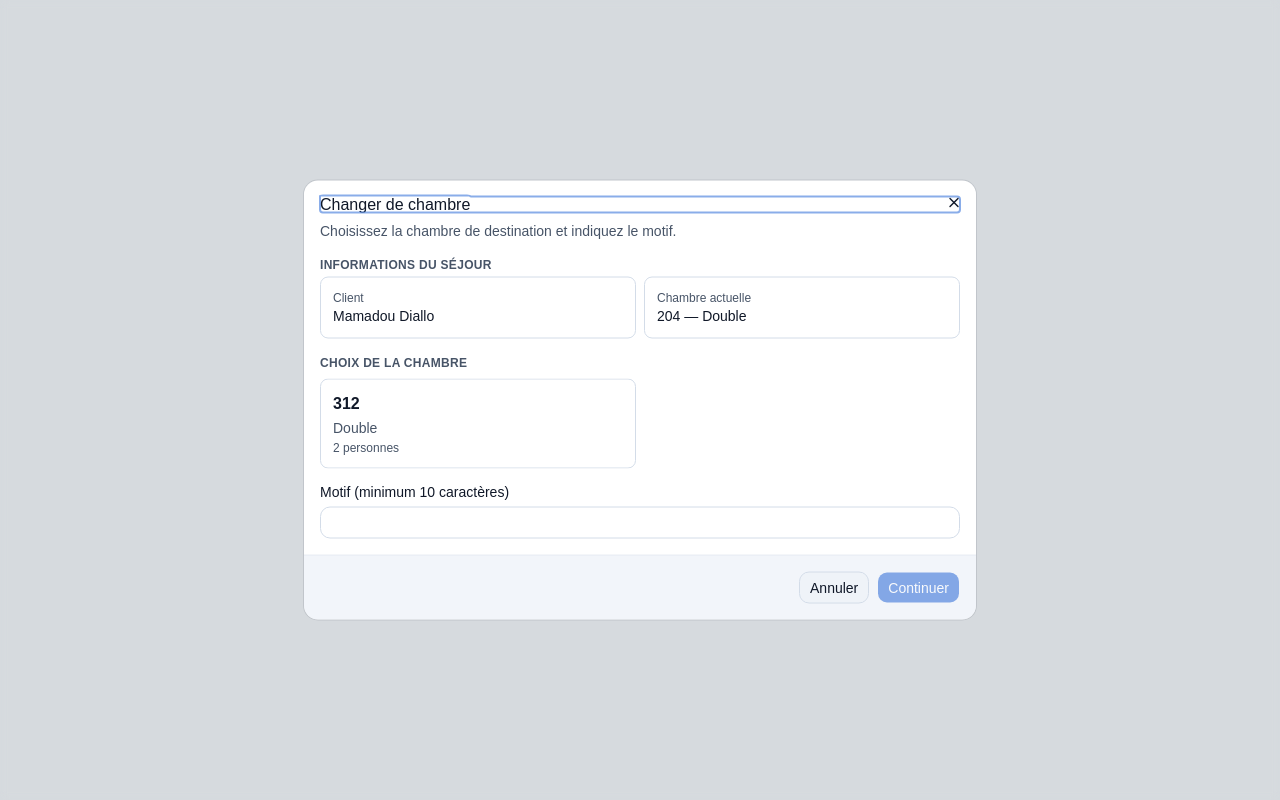
Test: ChangeRoomDialog — étape de confirmation avant appel API (DESIGN-009B : aperçu tarifaire) › affiche le message backend tel quel en cas d’erreur de commit non structurée (aucun code exploitable)
This screenshot has width=1280, height=800.
Click the button "312 Double 2 personnes". click: (355, 428)
box: [320, 378, 636, 468]
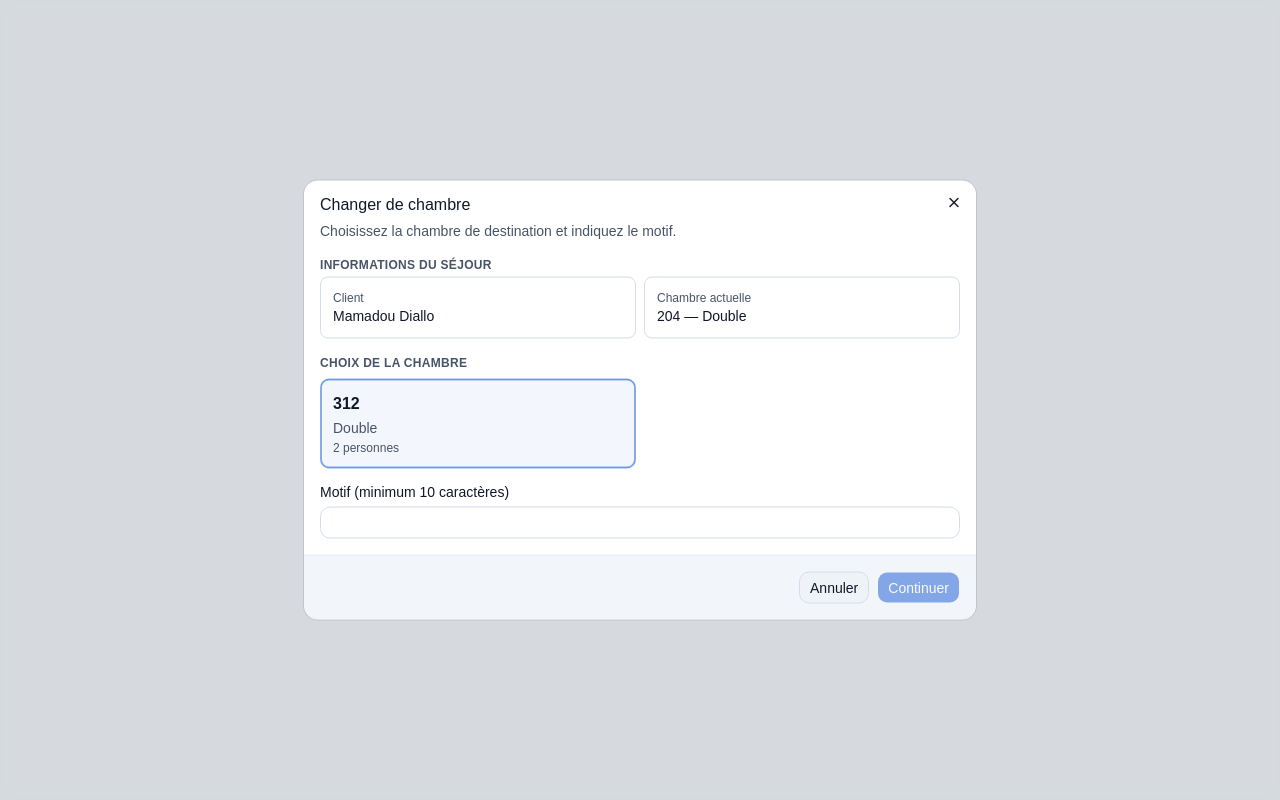
Type "Demande du client" into the field labelled "Motif (minimum 10 caractères)". click: (640, 522)
box: [320, 506, 960, 538]
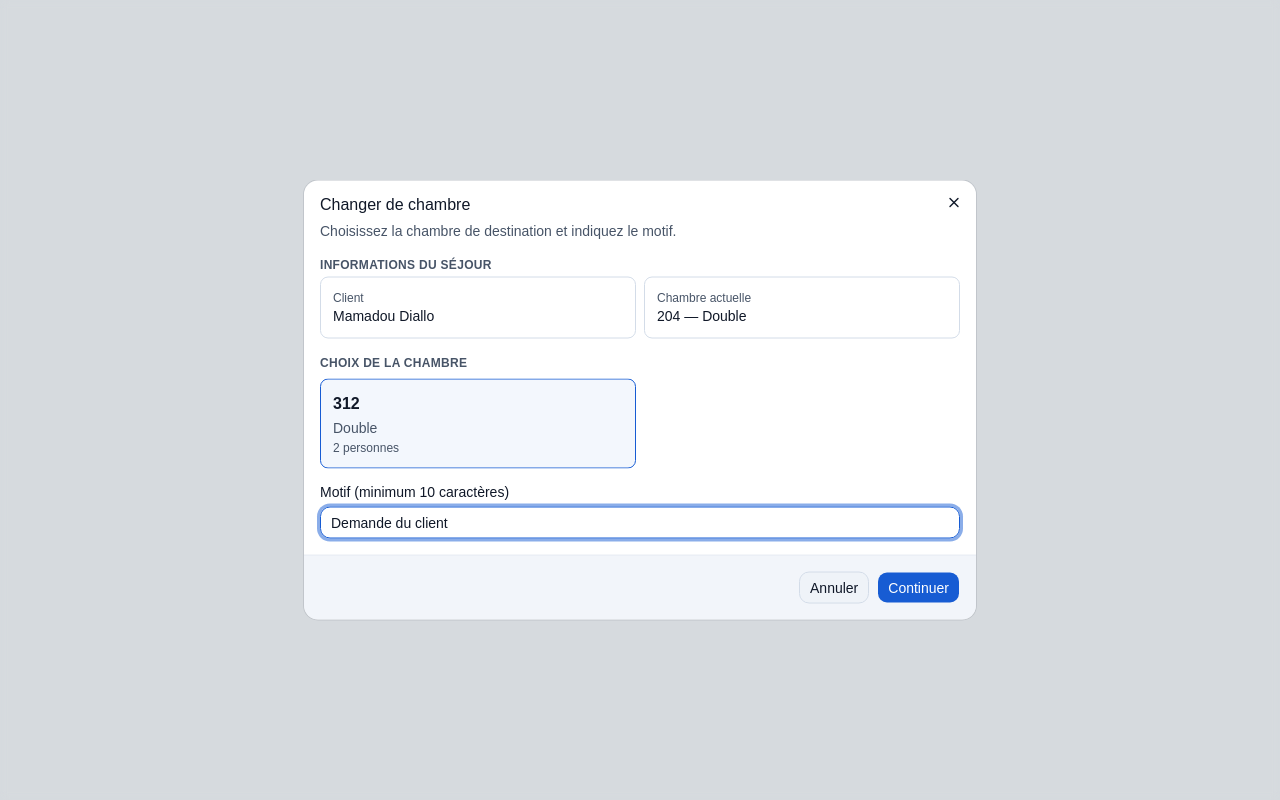
Click the button "Continuer". click: (919, 588)
box: [877, 572, 960, 604]
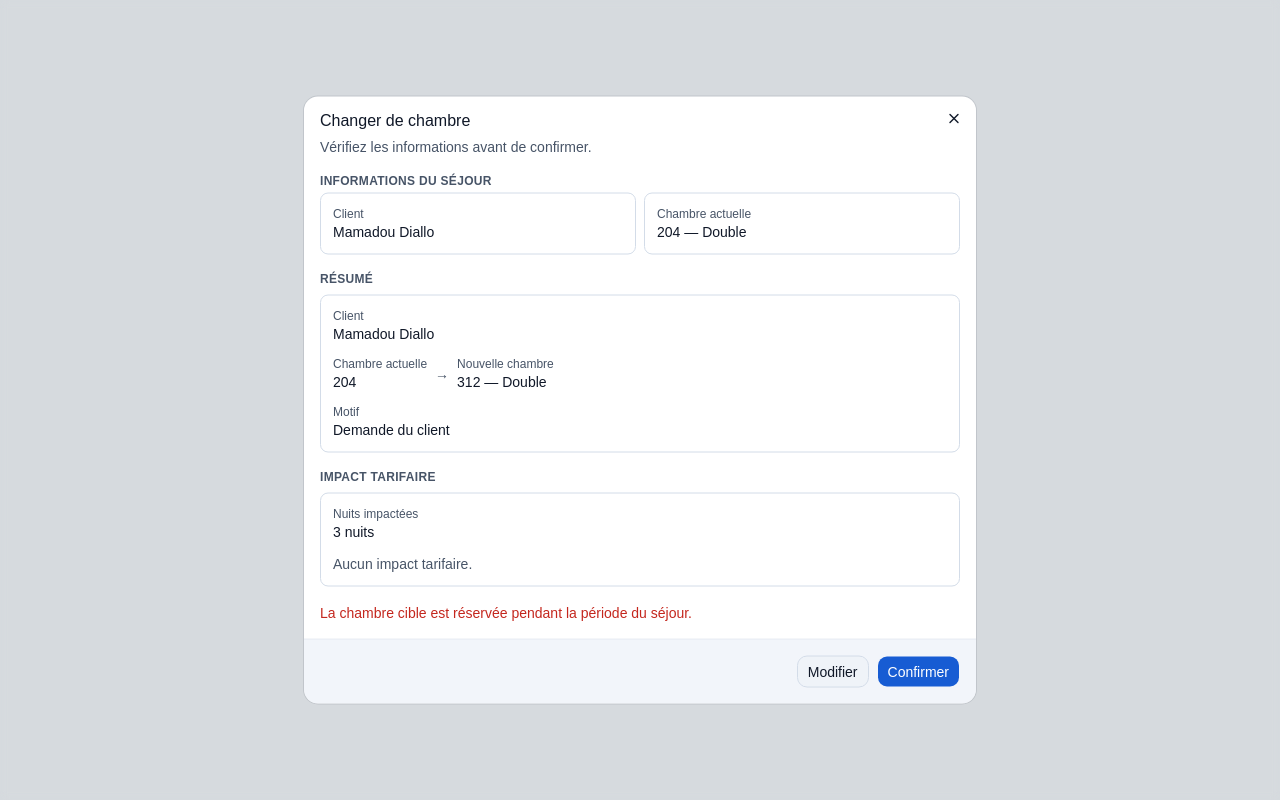
Expected: the text "La chambre cible est réservée pendant la période du séjour." is shown, [320, 604, 692, 620]
